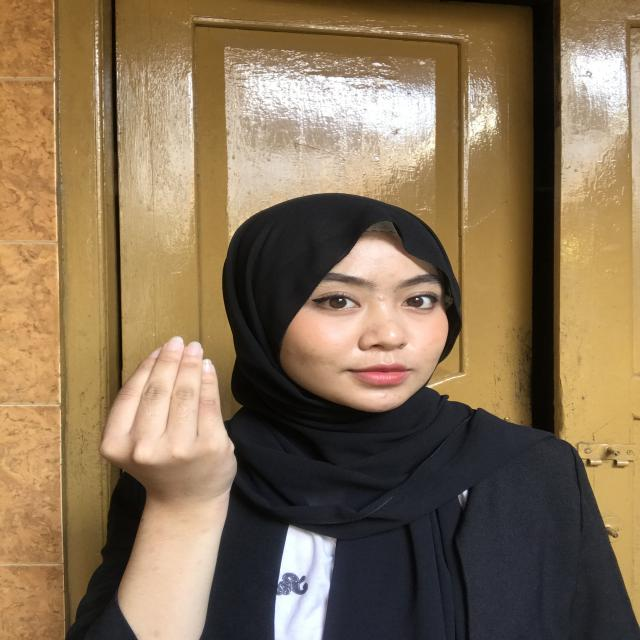berapa: (97, 334, 246, 524)
